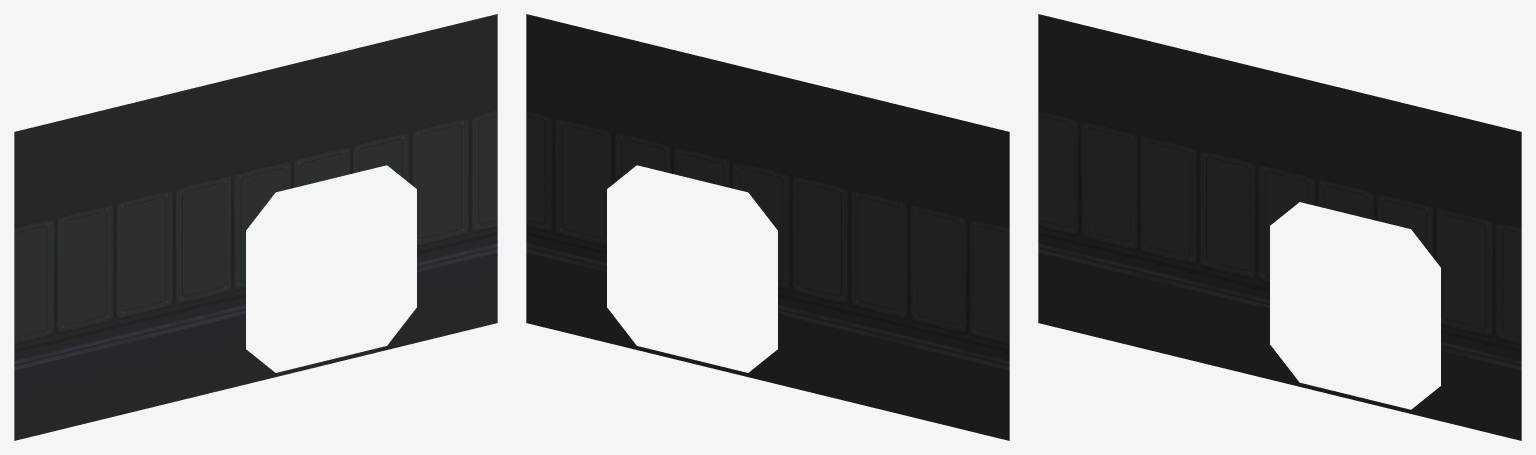
File: Wall_with_panels.glb
3 views of the same model, side by side, from view 1: azimuth 30°, elevation 25°; view 2: azimuth 150°, elevation 25°; view 3: azimuth 330°, elevation 25° (orthographic).
Parts seen in each view (by area): view 1: Wall_with_panels_low; view 2: Wall_with_panels_low; view 3: Wall_with_panels_low.
Part boxes in pixels (x1,y1,x2,y2): Wall_with_panels_low: (14, 14, 497, 440); Wall_with_panels_low: (526, 14, 1009, 440); Wall_with_panels_low: (1038, 14, 1521, 440).
Size of the model in its own units: 3.56 by 2.18 by 0.
1 material, 1 textured.
